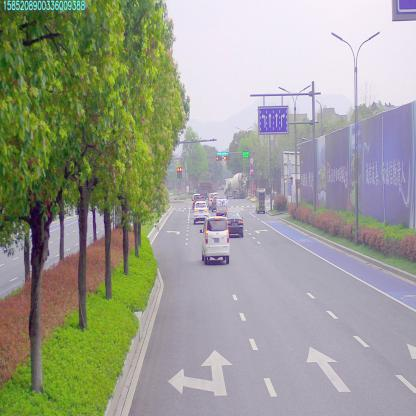traffic-light: (216, 150, 228, 154), (215, 155, 222, 161), (222, 155, 228, 160)
